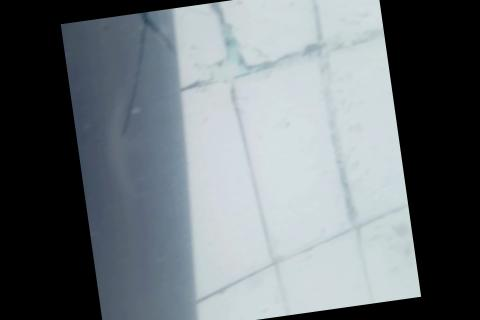keretakan: (100, 8, 186, 138)
